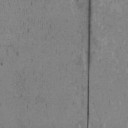surface scratch: (86, 0, 92, 128)
